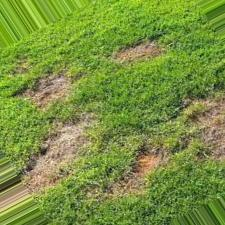patch: (38, 126, 83, 183), (190, 103, 219, 158), (114, 44, 159, 57), (29, 83, 59, 101), (134, 155, 153, 171)
